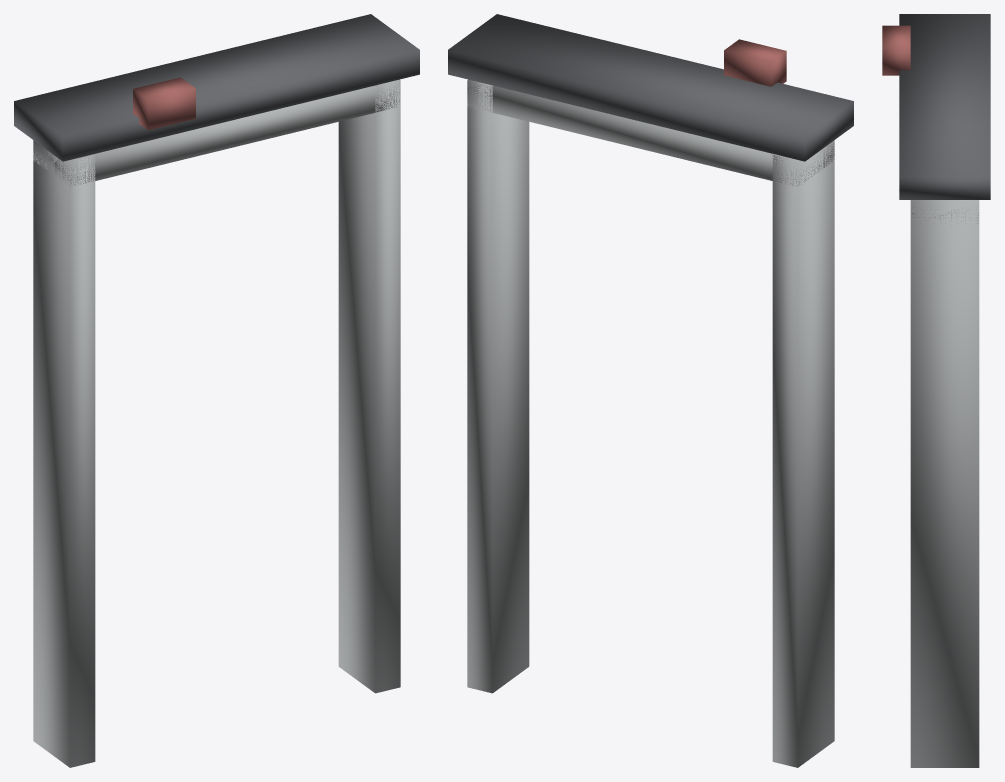
Rendered from doorway_fire_rated_w106_h210_d24.glb.
3 renders of one model, left to right at view 1: azimuth 30°, elevation 25°; view 2: azimuth 150°, elevation 25°; view 3: azimuth 270°, elevation 25°, orthographic. The views are drawn at different scales.
Parts seen in each view (by area): view 1: world; view 2: world; view 3: world.
Part boxes in pixels (left/top/right/bottom): world: left=14, top=14, right=419, bottom=767; world: left=448, top=14, right=853, bottom=767; world: left=882, top=14, right=990, bottom=767.
Size of the model in its own units: 1.35 by 2.4 by 0.38.
